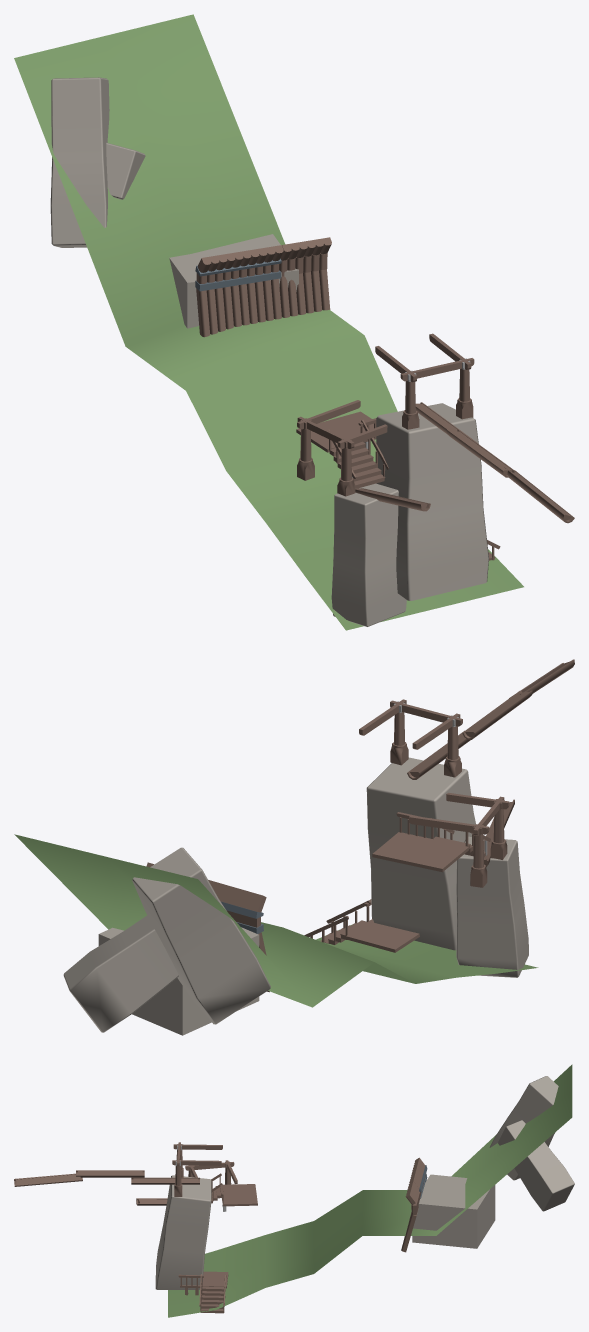
The model's file is MSH_Stands_03.fbx.
3 renders of one model, top to bottom at view 1: azimuth 30°, elevation 25°; view 2: azimuth 150°, elevation 25°; view 3: azimuth 270°, elevation 25°, orthographic. The views are drawn at different scales.
Parts seen in each view (by area): view 1: MSH_Stands_03; view 2: MSH_Stands_03; view 3: MSH_Stands_03.
Boxes of the visible parts, bbox=[...] form: MSH_Stands_03: bbox=[14, 14, 574, 630]; MSH_Stands_03: bbox=[14, 659, 574, 1035]; MSH_Stands_03: bbox=[14, 1064, 574, 1317].
Bounding box in the file's own units: 1318 × 2086 × 5270.
